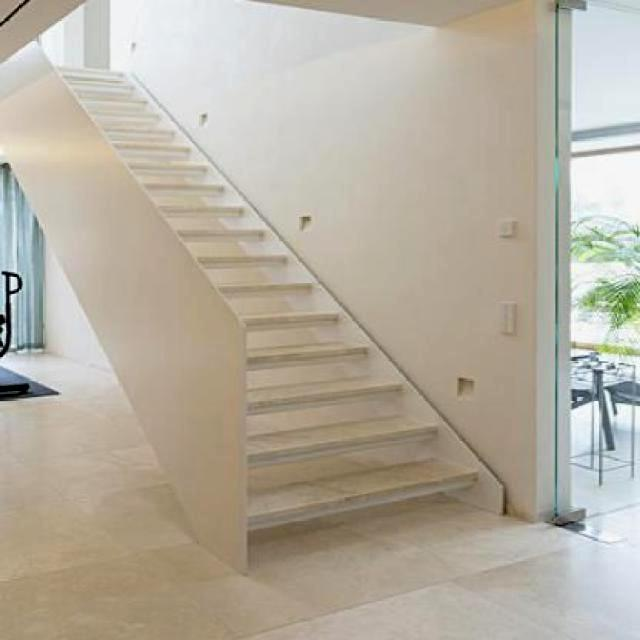stair: (2, 51, 526, 554)
